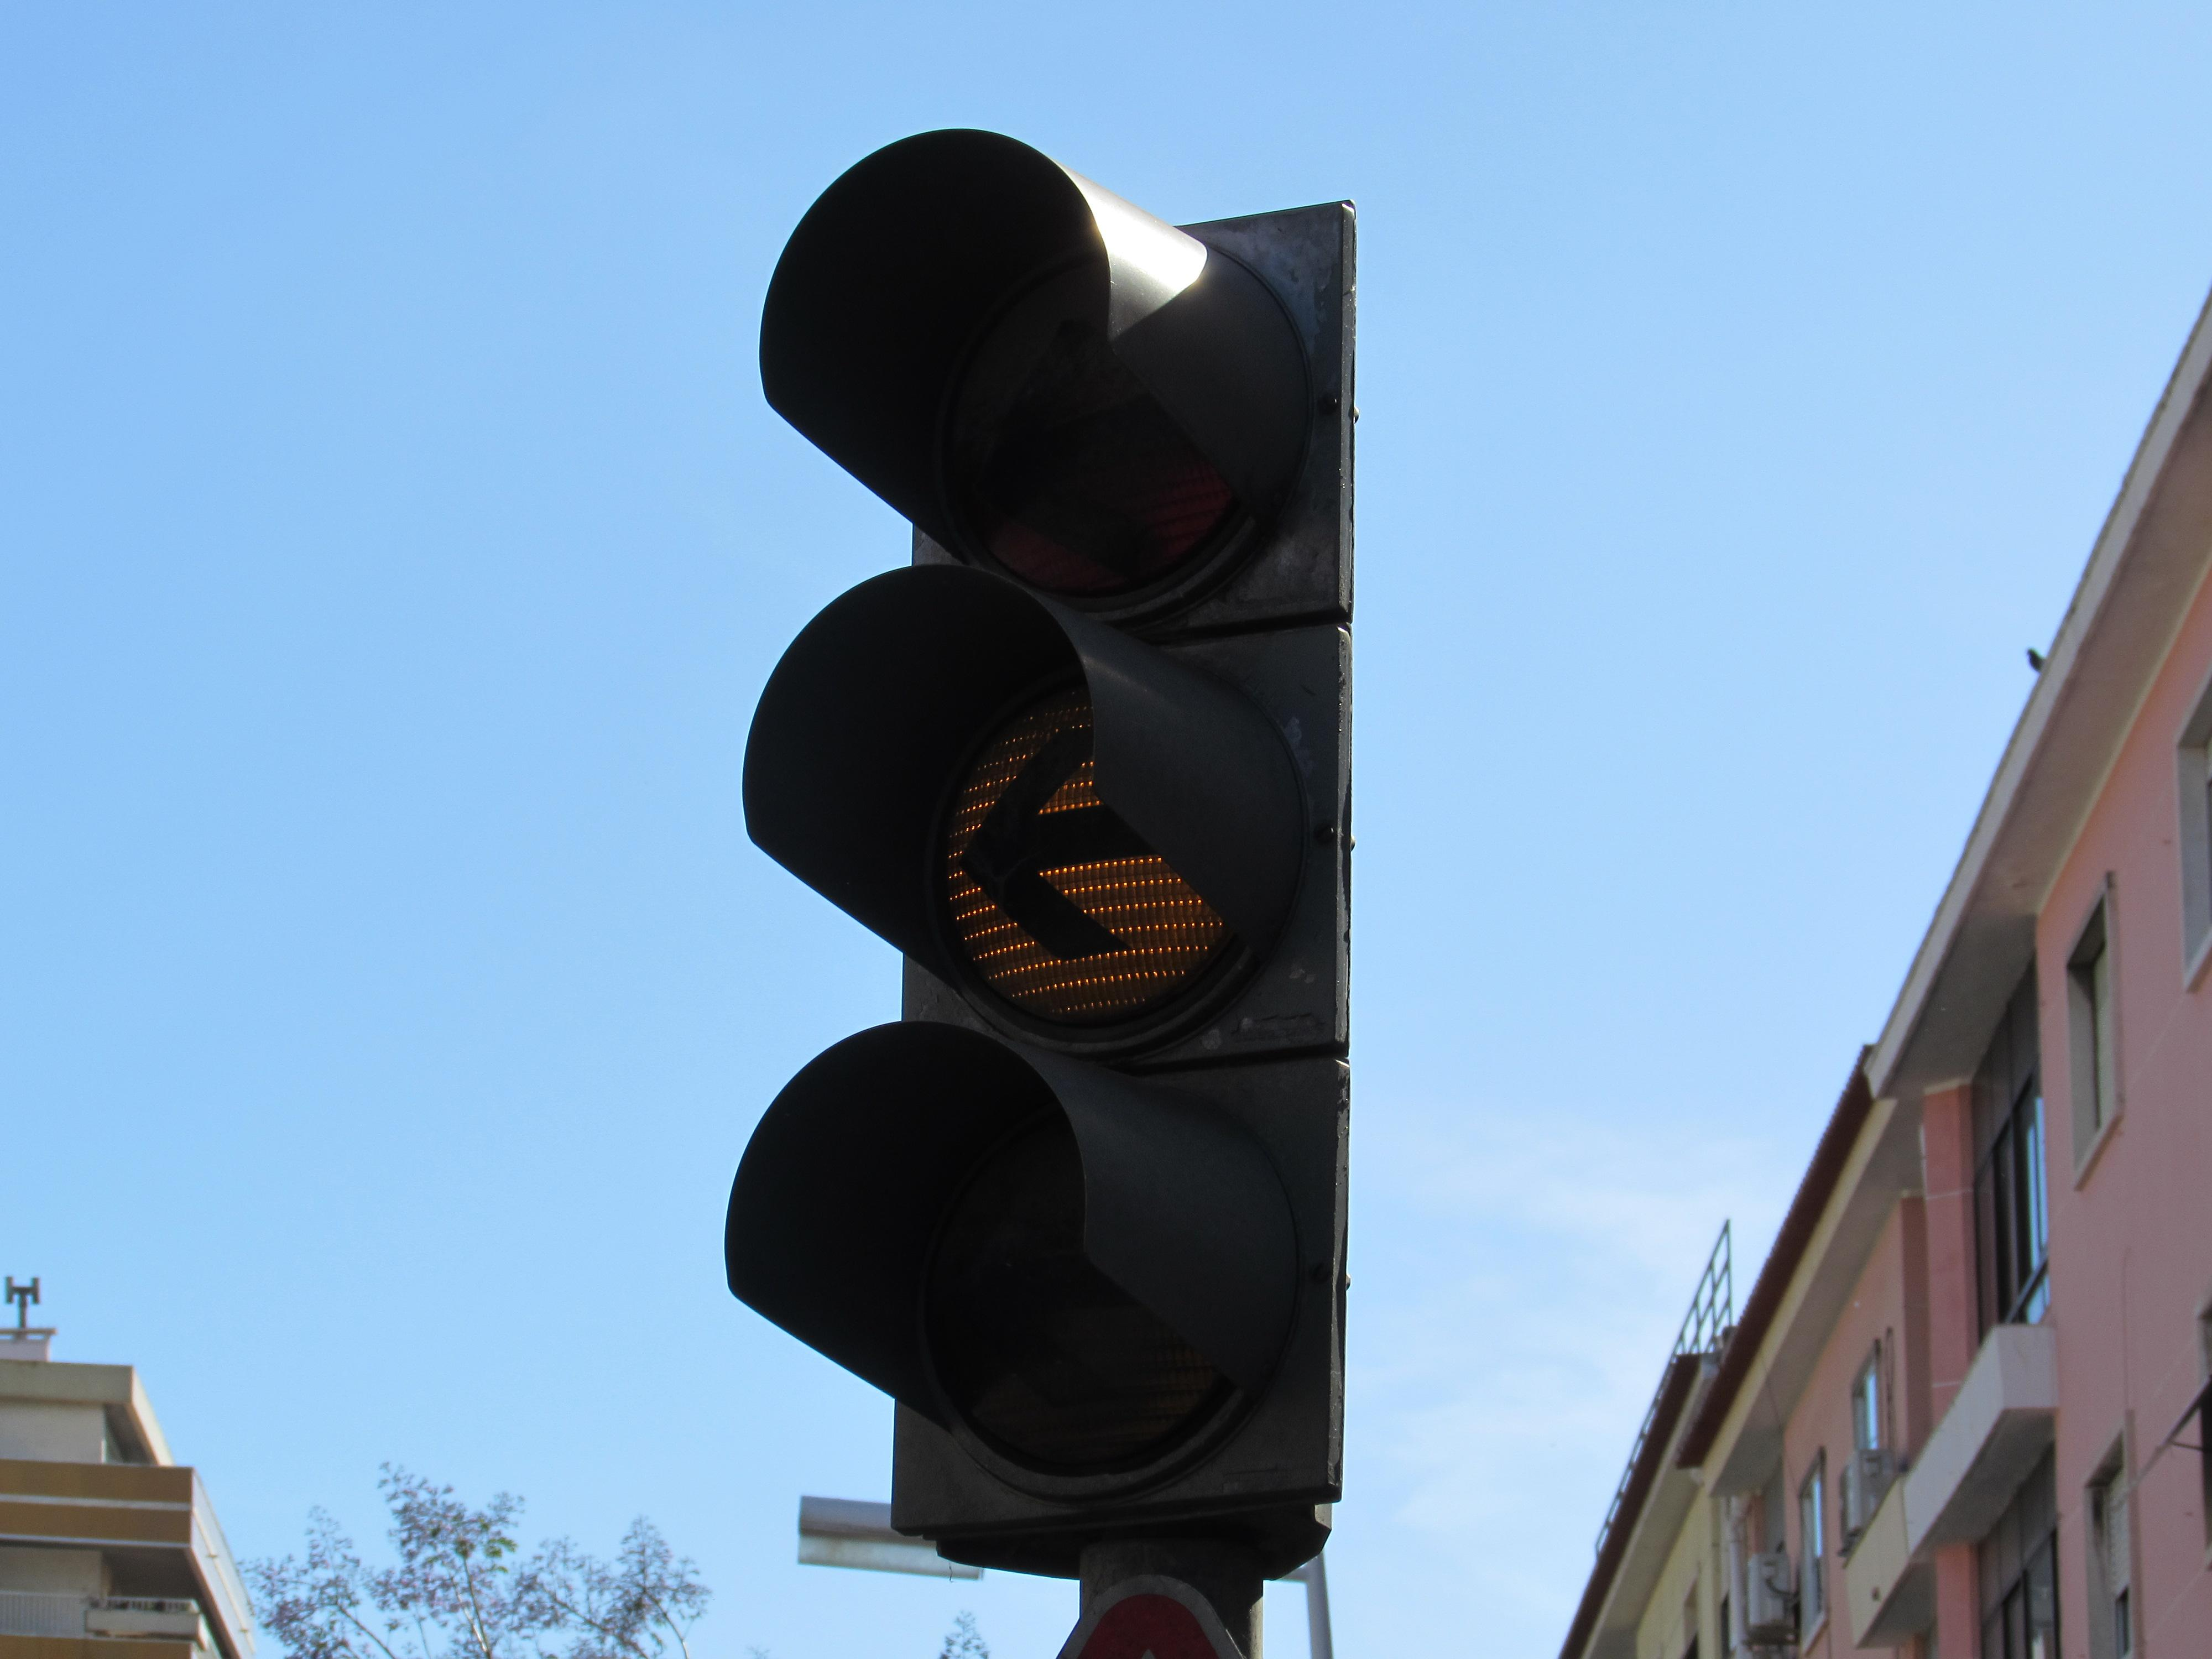yellow_light: (725, 125, 1357, 1534)
